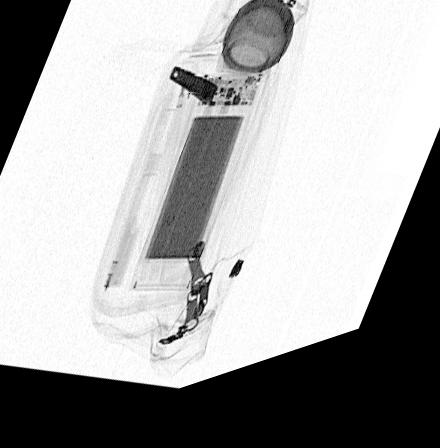Powerbank: (128, 82, 271, 302)
